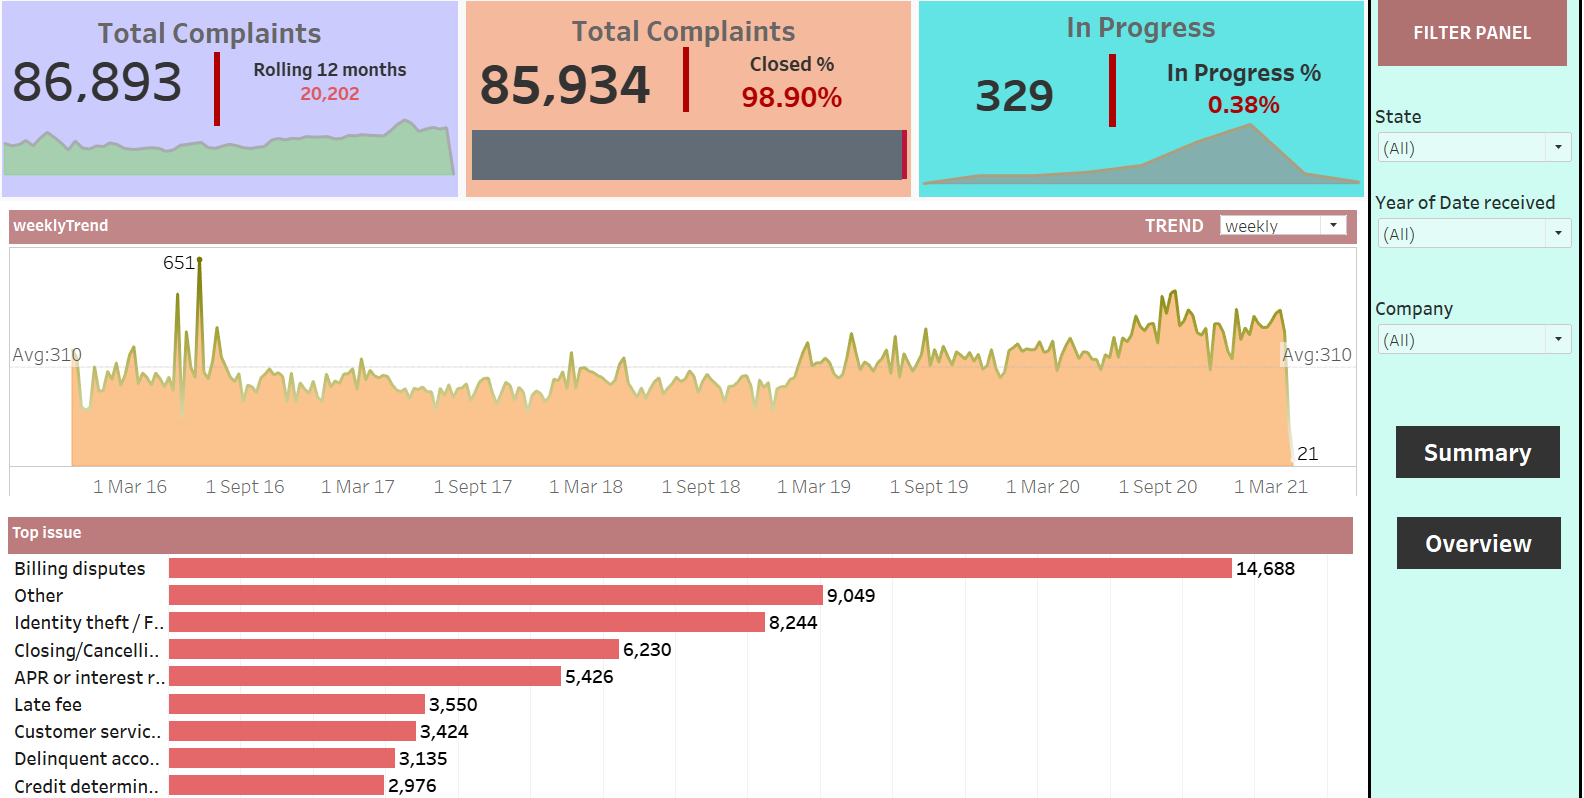

The page's visual inventory and layout, read from the dashboard file:
{"tool":"tableau","page":{"name":"Credit Card Dashboard","canvas":[1600,900],"ordinal":1},"visuals":[{"type":"title","box":[8,8,1370,61]},{"type":"blank","box":[1381,11,208,160]},{"type":"blank","box":[8,69,464,204]},{"type":"blank","box":[472,69,453,204]},{"type":"blank","box":[925,69,453,204]},{"type":"text","box":[1388,70,189,68]},{"type":"text","box":[1068,72,166,51]},{"type":"text","box":[575,77,237,50]},{"type":"text","box":[101,79,237,50]},{"type":"worksheet","title":"in progress Complaints","mark":"Automatic","box":[933,110,183,85]},{"type":"worksheet","title":"In progerss %","mark":"Automatic","box":[1148,117,212,86]},{"type":"blank","box":[693,119,6,65]},{"type":"worksheet","title":"Closed %","mark":"Automatic","box":[703,121,198,65]},{"type":"blank","box":[224,124,6,74]},{"type":"blank","box":[1119,126,7,73]},{"type":"worksheet","title":"Total Complaints","mark":"Automatic","box":[17,127,179,47]},{"type":"worksheet","title":"Roolling 12 Month","mark":"Automatic","box":[239,128,202,50]},{"type":"worksheet","title":"Timely Response","mark":"Automatic","box":[485,130,181,48]},{"type":"filter","title":"Density Map","param":"[federated.1bjkceq1e5h1i611mt98k0tbbuc3].[none:State:nk]","box":[1381,171,208,86]},{"type":"worksheet","title":"in progress Spakline","mark":"Automatic","rows":["Calculation_519602838785904640","Calculation_519602838785904640"],"cols":["Date received"],"box":[910,191,482,69]},{"type":"worksheet","title":"Progress bar","mark":"Bar","cols":["Calculation_864128215562244099","Calculation_1109011439790563331"],"box":[482,193,457,67]},{"type":"filter","title":"Density Map","param":"[federated.1bjkceq1e5h1i611mt98k0tbbuc3].[yr:Date received:ok]","box":[1381,257,208,106]},{"type":"worksheet","title":"Submitted via","mark":"Square","rows":["Submitted via"],"box":[15,278,605,295]},{"type":"text","box":[620,278,751,33]},{"type":"parameter","param":"[Parameters].[Parameter 3]","box":[1139,282,222,22]},{"type":"worksheet","title":"Density Map","mark":"Heatmap","box":[620,311,751,261]},{"type":"filter","title":"Filled Map","param":"[federated.1bjkceq1e5h1i611mt98k0tbbuc3].[none:Company:nk]","box":[1381,363,208,97]},{"type":"dashboard-object","box":[1398,482,164,52]},{"type":"worksheet","title":"Filled Map","mark":"Automatic","box":[620,572,751,1]},{"type":"dashboard-object","box":[1401,580,164,52]},{"type":"worksheet","title":"company responce","mark":"Automatic","rows":["Company response to consumer"],"box":[14,585,603,317]},{"type":"worksheet","title":"Daily Complaints","mark":"Square","rows":["Date received"],"cols":["Date received"],"box":[617,585,750,317]},{"type":"filter","title":"Daily Complaints","param":"[federated.1bjkceq1e5h1i611mt98k0tbbuc3].[my:Date received:ok]","box":[1206,591,151,29]}]}

Visuals, with their boxes on the page's 1600x900 design canvas (x1, y1, x2, y2). These are canvas units, not pixel positions in the 1584x798 screenshot, which may show the page scaled, cropped or inside an application window:
title: locate(8, 8, 1378, 69)
blank: locate(1381, 11, 1589, 171)
blank: locate(8, 69, 472, 273)
blank: locate(472, 69, 925, 273)
blank: locate(925, 69, 1378, 273)
text: locate(1388, 70, 1577, 138)
text: locate(1068, 72, 1234, 123)
text: locate(575, 77, 812, 127)
text: locate(101, 79, 338, 129)
"in progress Complaints" worksheet: locate(933, 110, 1116, 195)
"In progerss %" worksheet: locate(1148, 117, 1360, 203)
blank: locate(693, 119, 699, 184)
"Closed %" worksheet: locate(703, 121, 901, 186)
blank: locate(224, 124, 230, 198)
blank: locate(1119, 126, 1126, 199)
"Total Complaints" worksheet: locate(17, 127, 196, 174)
"Roolling 12 Month" worksheet: locate(239, 128, 441, 178)
"Timely Response" worksheet: locate(485, 130, 666, 178)
"Density Map" filter: locate(1381, 171, 1589, 257)
"in progress Spakline" worksheet: locate(910, 191, 1392, 260)
"Progress bar" worksheet (Bar marks): locate(482, 193, 939, 260)
"Density Map" filter: locate(1381, 257, 1589, 363)
"Submitted via" worksheet (Square marks): locate(15, 278, 620, 573)
text: locate(620, 278, 1371, 311)
parameter: locate(1139, 282, 1361, 304)
"Density Map" worksheet (Heatmap marks): locate(620, 311, 1371, 572)
"Filled Map" filter: locate(1381, 363, 1589, 460)
dashboard-object: locate(1398, 482, 1562, 534)
"Filled Map" worksheet: locate(620, 572, 1371, 573)
dashboard-object: locate(1401, 580, 1565, 632)
"company responce" worksheet: locate(14, 585, 617, 902)
"Daily Complaints" worksheet (Square marks): locate(617, 585, 1367, 902)
"Daily Complaints" filter: locate(1206, 591, 1357, 620)
